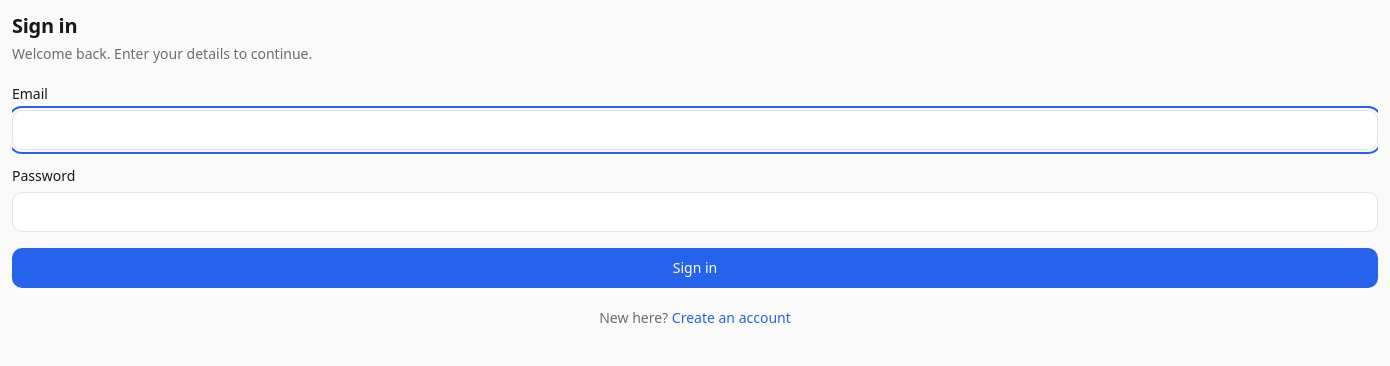
Scenario: LoginPage › rejects an email that is not an email
Type "not-an-email" into the field labelled "Email".
click(695, 130); type("not-an-email")  # box [12, 110, 1378, 150]
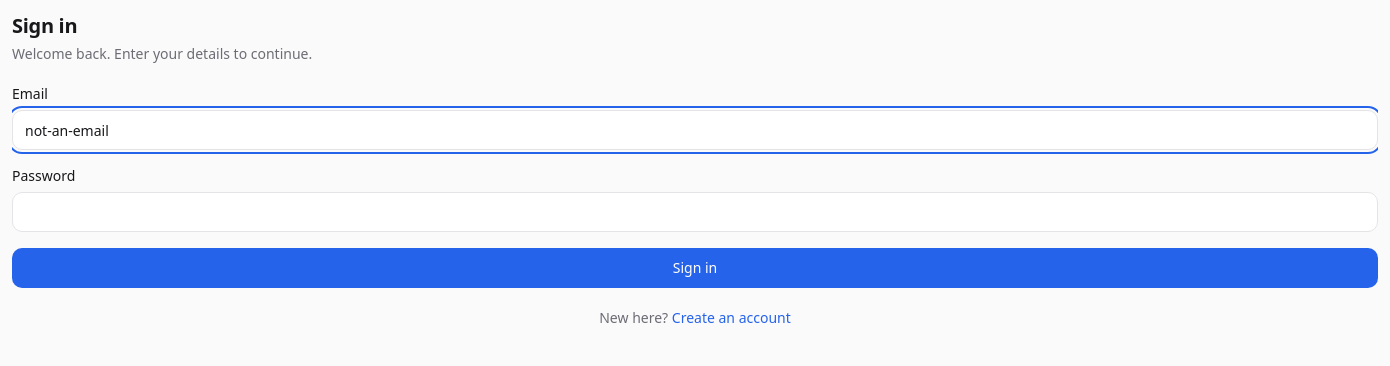
Type "secret123" into the password field labelled "Password".
click(695, 212); type("secret123")  # box [12, 192, 1378, 232]
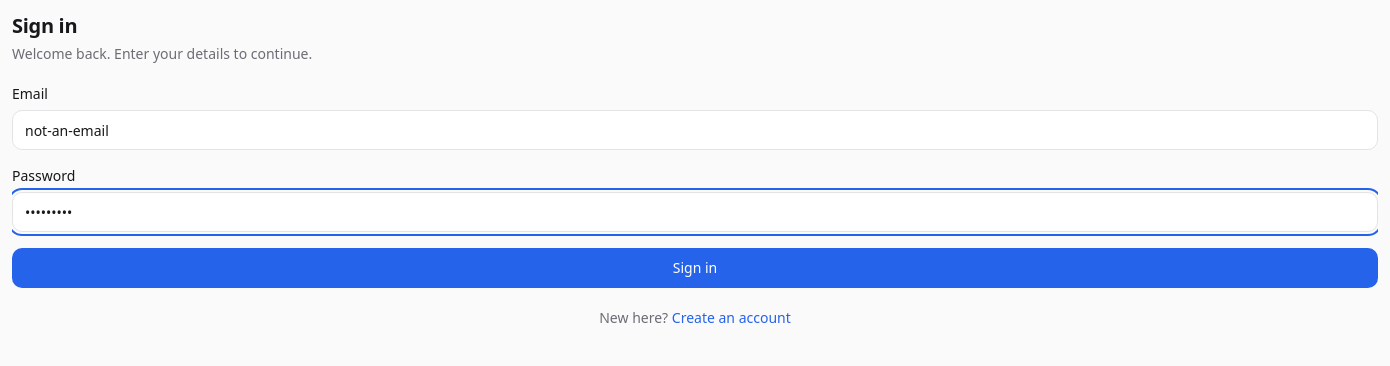
Click the button "Sign in".
click(695, 268)  # box [12, 248, 1378, 288]
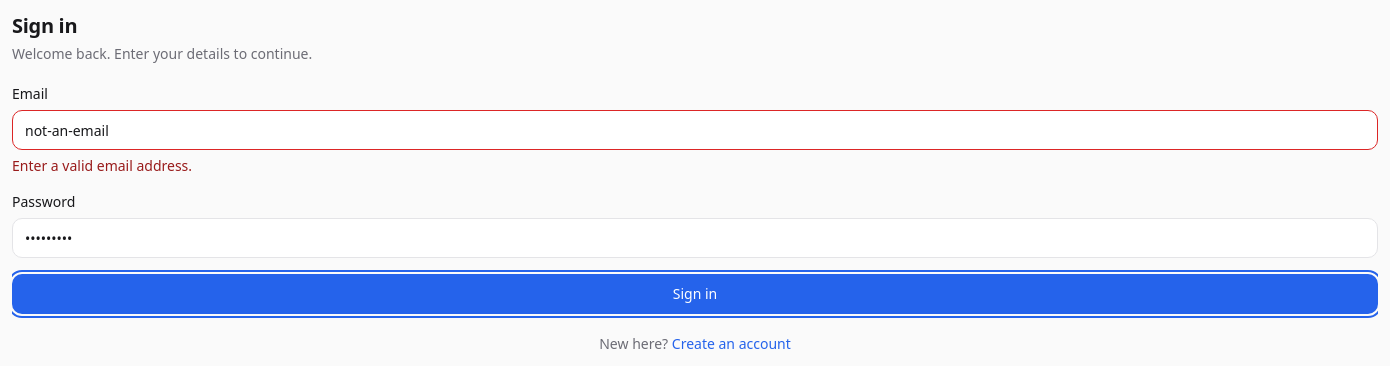
Expected: the text "Enter a valid email address." is shown, [12, 156, 192, 175]
